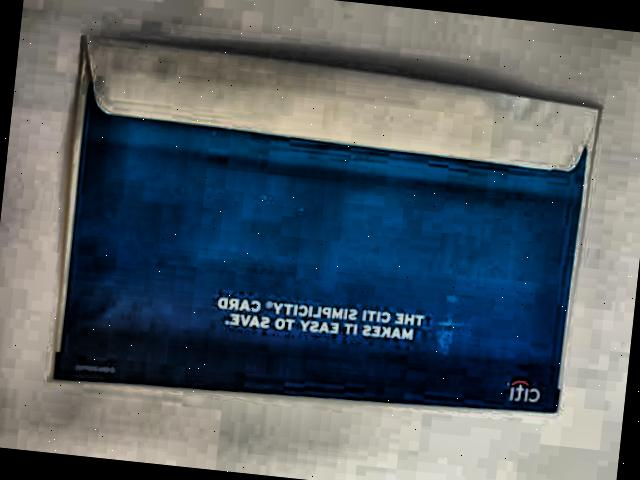Paper: (29, 15, 620, 461)
